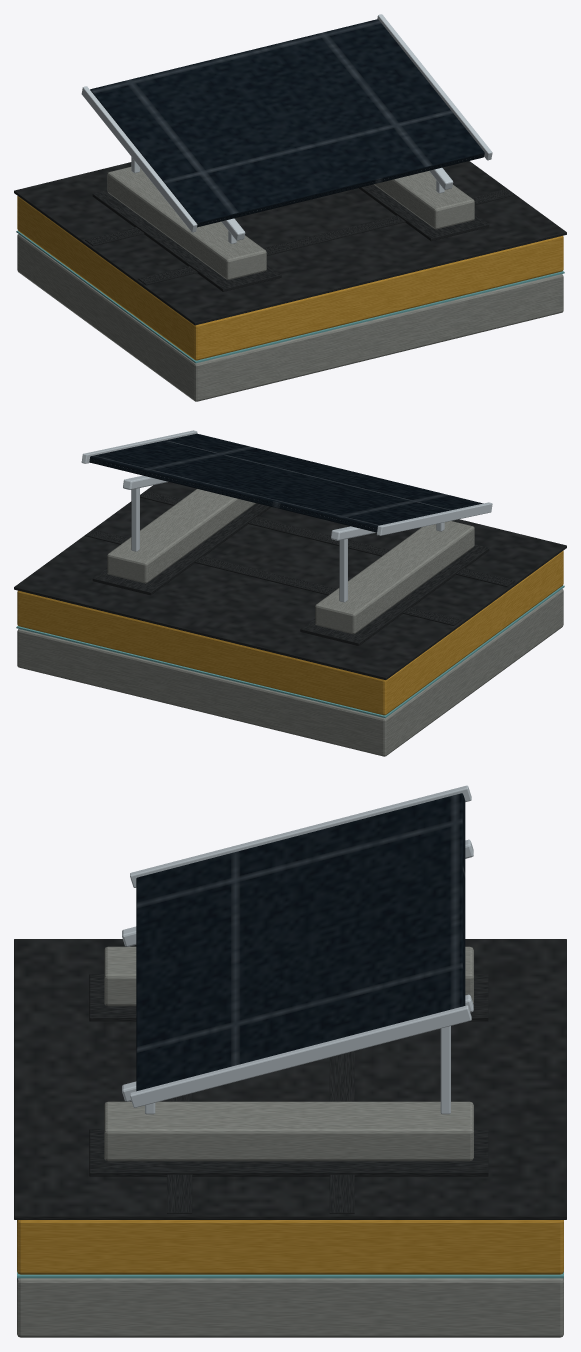
The model's file is modell.glb.
3 views of the same model, one above another, from view 1: azimuth 30°, elevation 25°; view 2: azimuth 150°, elevation 25°; view 3: azimuth 270°, elevation 25° (orthographic). The views are drawn at different scales.
Visible parts, largest first — view 1: a01-modul_, a01-abdichtung_deckung, a01-untergrund_tragwerk, a01-daemmung_daemmung, a01-untergrund_, a01-wetteranschluss_deckung, a01-modul_.001, a01-naht_deckung, a01-luftdichtheit_luftdichtheit, a01-schiene_; view 2: a01-abdichtung_deckung, a01-untergrund_tragwerk, a01-daemmung_daemmung, a01-modul_, a01-untergrund_, a01-wetteranschluss_deckung, a01-naht_deckung, a01-modul_.001, a01-luftdichtheit_luftdichtheit, a01-halter_, a01-schiene_; view 3: a01-abdichtung_deckung, a01-modul_, a01-untergrund_tragwerk, a01-daemmung_daemmung, a01-untergrund_, a01-wetteranschluss_deckung, a01-modul_.001, a01-naht_deckung, a01-luftdichtheit_luftdichtheit, a01-halter_, a01-schiene_.
Part boxes in pixels (box(x1,y1,x2,y2)): a01-modul_: box(90, 19, 484, 227); a01-abdichtung_deckung: box(14, 161, 566, 325); a01-untergrund_tragwerk: box(17, 234, 563, 401); a01-daemmung_daemmung: box(17, 196, 563, 360); a01-untergrund_: box(107, 167, 474, 279); a01-wetteranschluss_deckung: box(92, 184, 489, 291); a01-modul_.001: box(81, 14, 492, 232); a01-naht_deckung: box(85, 188, 515, 285); a01-luftdichtheit_luftdichtheit: box(16, 230, 564, 363); a01-schiene_: box(221, 167, 453, 240); a01-abdichtung_deckung: box(14, 482, 566, 680); a01-untergrund_tragwerk: box(17, 589, 563, 756); a01-daemmung_daemmung: box(17, 550, 563, 715); a01-modul_: box(89, 433, 483, 532); a01-untergrund_: box(107, 489, 474, 634); a01-wetteranschluss_deckung: box(92, 503, 489, 645); a01-naht_deckung: box(85, 490, 515, 625); a01-modul_.001: box(81, 430, 492, 535); a01-luftdichtheit_luftdichtheit: box(16, 585, 564, 718); a01-halter_: box(131, 488, 444, 602); a01-schiene_: box(123, 475, 376, 540); a01-abdichtung_deckung: box(14, 939, 566, 1219); a01-modul_: box(136, 793, 465, 1091); a01-untergrund_tragwerk: box(17, 1278, 563, 1337); a01-daemmung_daemmung: box(17, 1220, 563, 1274); a01-untergrund_: box(104, 946, 473, 1161); a01-wetteranschluss_deckung: box(89, 974, 488, 1176); a01-modul_.001: box(130, 785, 471, 1107); a01-naht_deckung: box(167, 1051, 354, 1213); a01-luftdichtheit_luftdichtheit: box(17, 1272, 563, 1278); a01-halter_: box(145, 1026, 450, 1114); a01-schiene_: box(122, 839, 473, 1101).
Bounding box in the file's own units: 2.22 × 1.14 × 1.87.
Materials: 6 (4 with a texture image).
